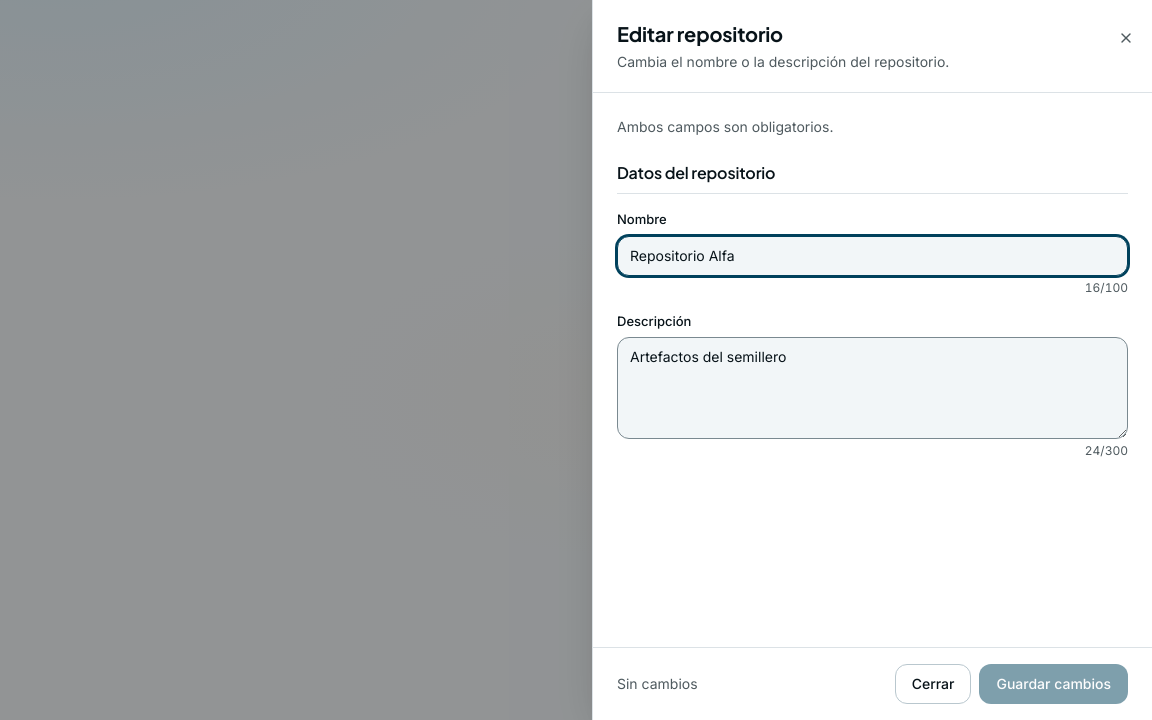
Test: ModificarRepositorioPanel › con la descripción vacía no envía y muestra los errores
Clear the text box labelled "Descripción": {"x": 872, "y": 388} [617, 337, 1128, 439]
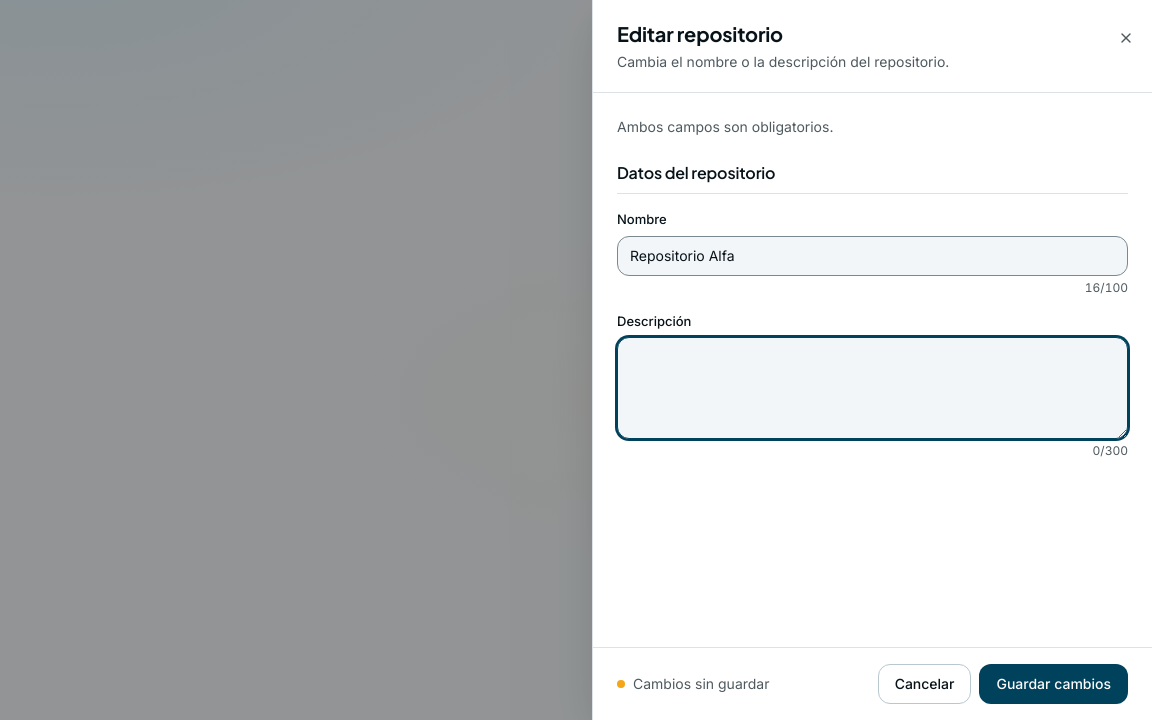
Click the button "Guardar cambios": {"x": 1054, "y": 684} [980, 664, 1128, 704]
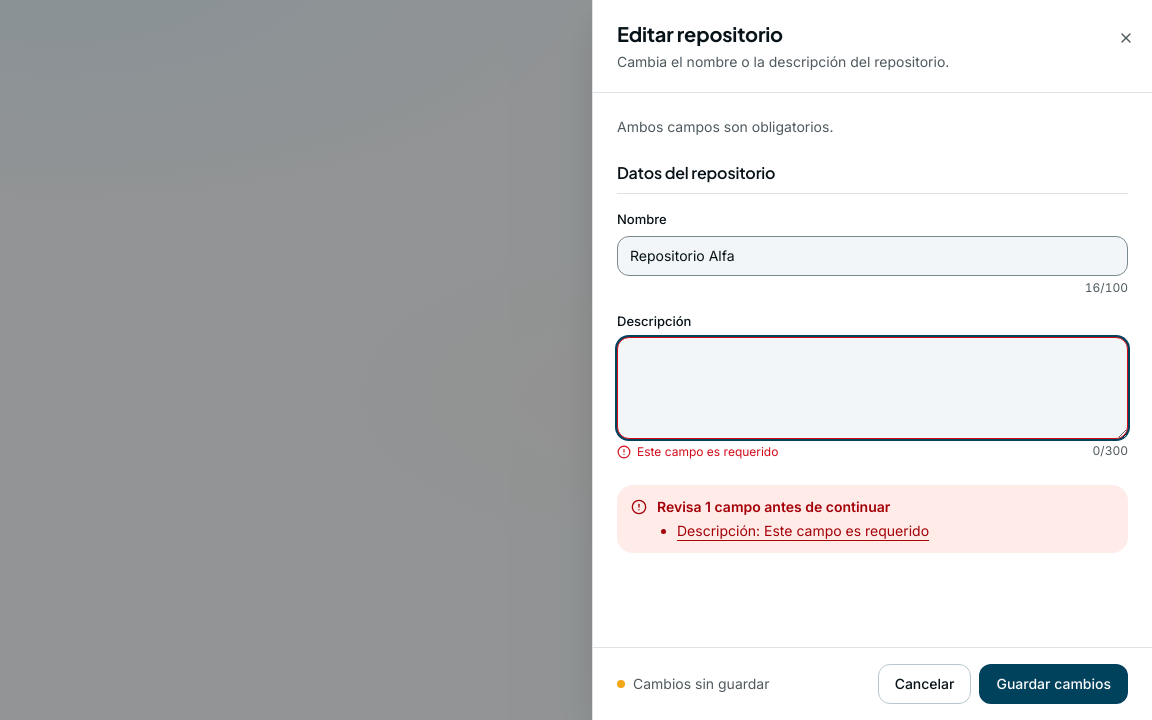
Result: the message "Este campo es requerido" is shown at [617, 443, 778, 461]
